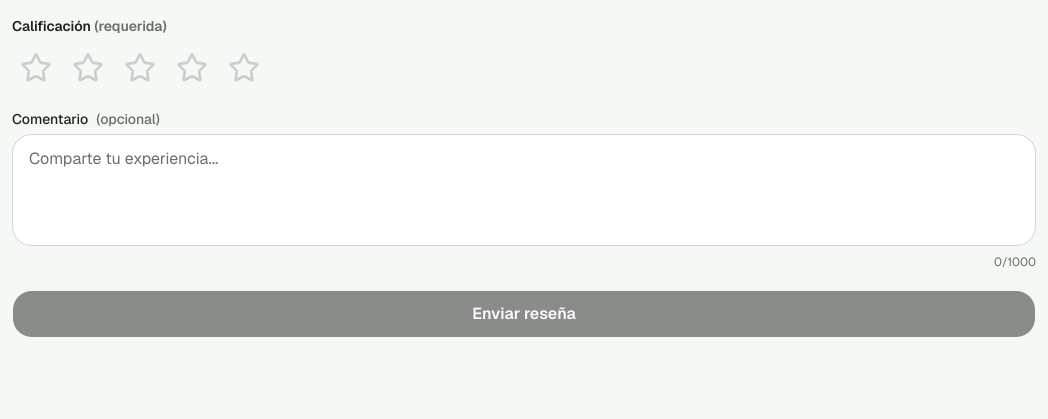
it: reviews form system › recovers the public review form after a transport failure
Step 1. Click the button named "5 estrellas" → (244, 68), box [220,44,268,92]
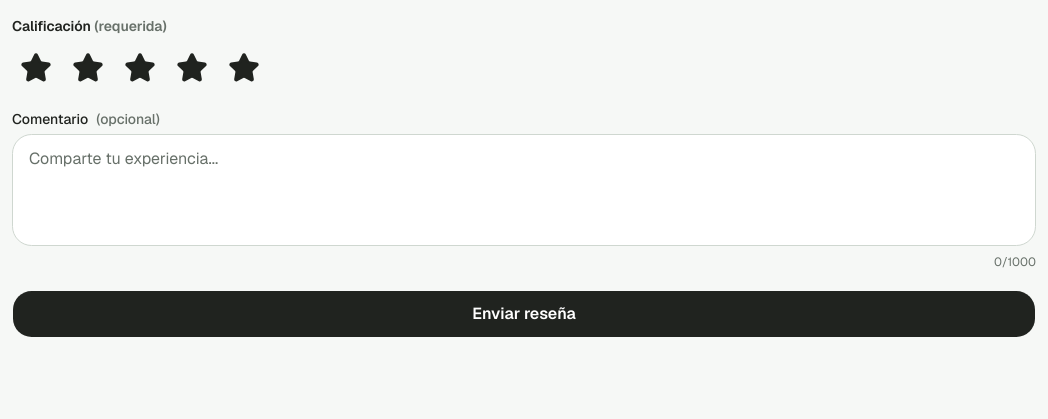
Step 2. Submit the form
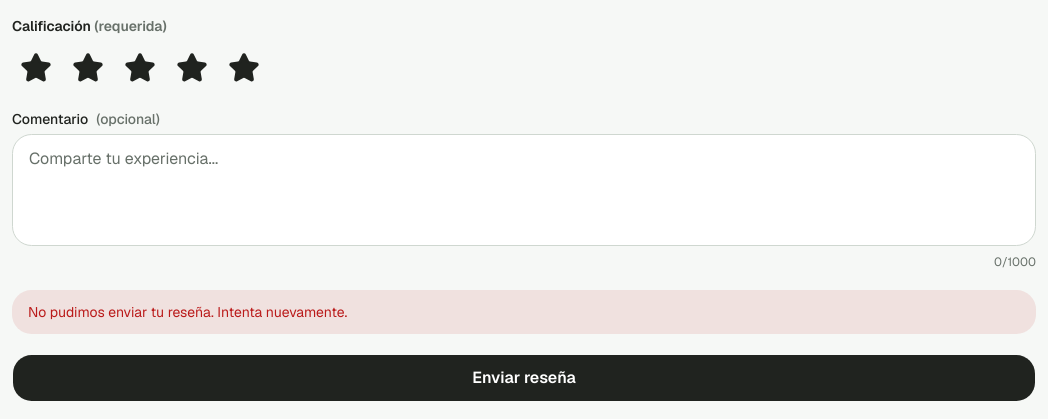
Expected: the submit button is enabled, [12,354,1036,402]
Expected: the message "No pudimos enviar tu reseña. Intenta nuevamente." is shown, [12,290,1036,334]
